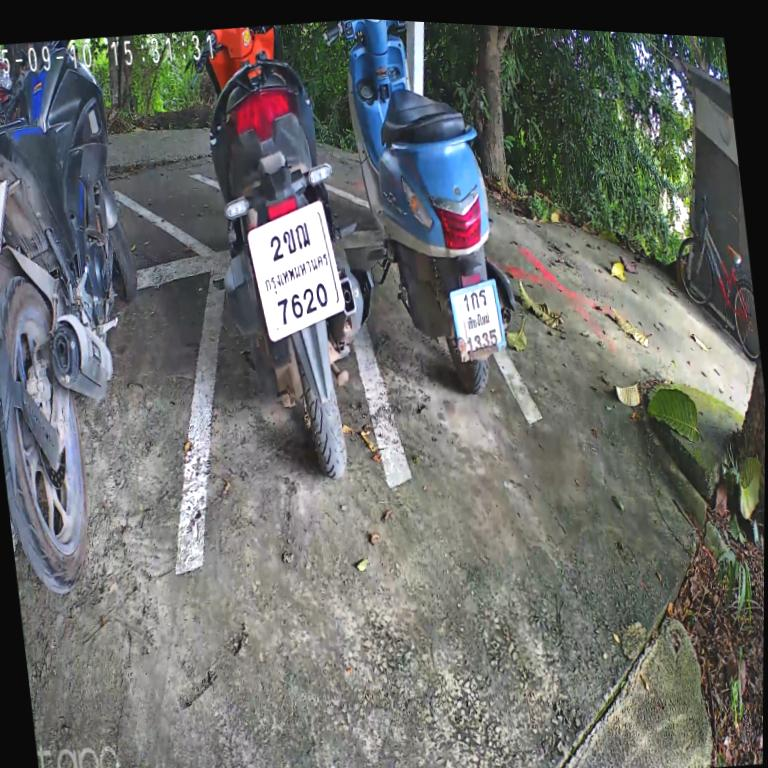license plate: (238, 187, 352, 352), (443, 269, 514, 366), (0, 163, 20, 269)
